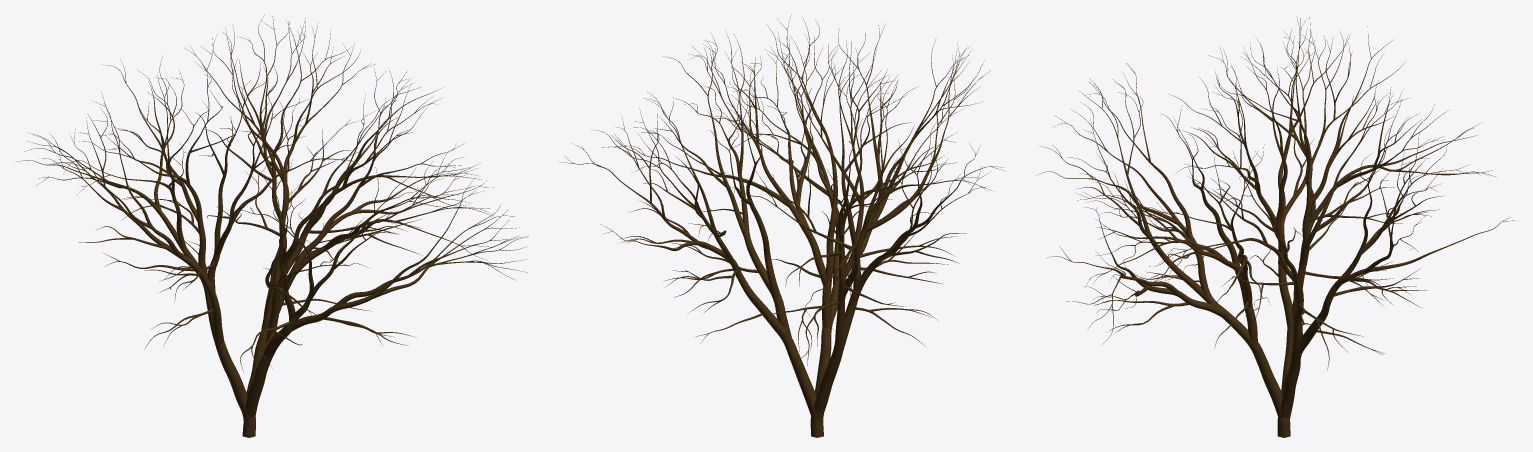
File: DesertTree3.fbx
The picture shows the model from 3 angles, left to right: view 1: azimuth 30°, elevation 25°; view 2: azimuth 150°, elevation 25°; view 3: azimuth 270°, elevation 25°; orthographic projection.
Visible parts, largest first — view 1: DesertTree3; view 2: DesertTree3; view 3: DesertTree3.
Boxes of the visible parts, left/top/right/bottom form: DesertTree3: left=16, top=15, right=528, bottom=437; DesertTree3: left=558, top=15, right=1004, bottom=437; DesertTree3: left=1036, top=16, right=1518, bottom=437.
Size of the model in its own units: 2093 by 1889 by 2196.
